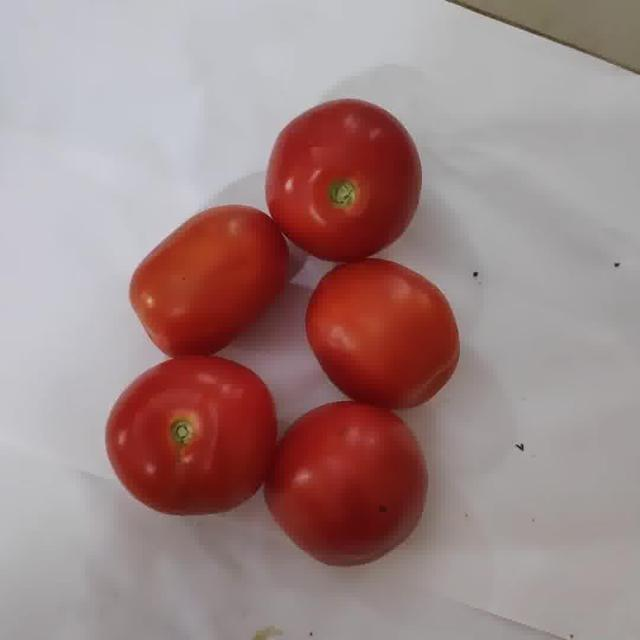Tomato: (106, 357, 276, 514), (265, 401, 426, 565), (266, 99, 421, 262), (130, 206, 289, 357), (306, 258, 459, 409)
